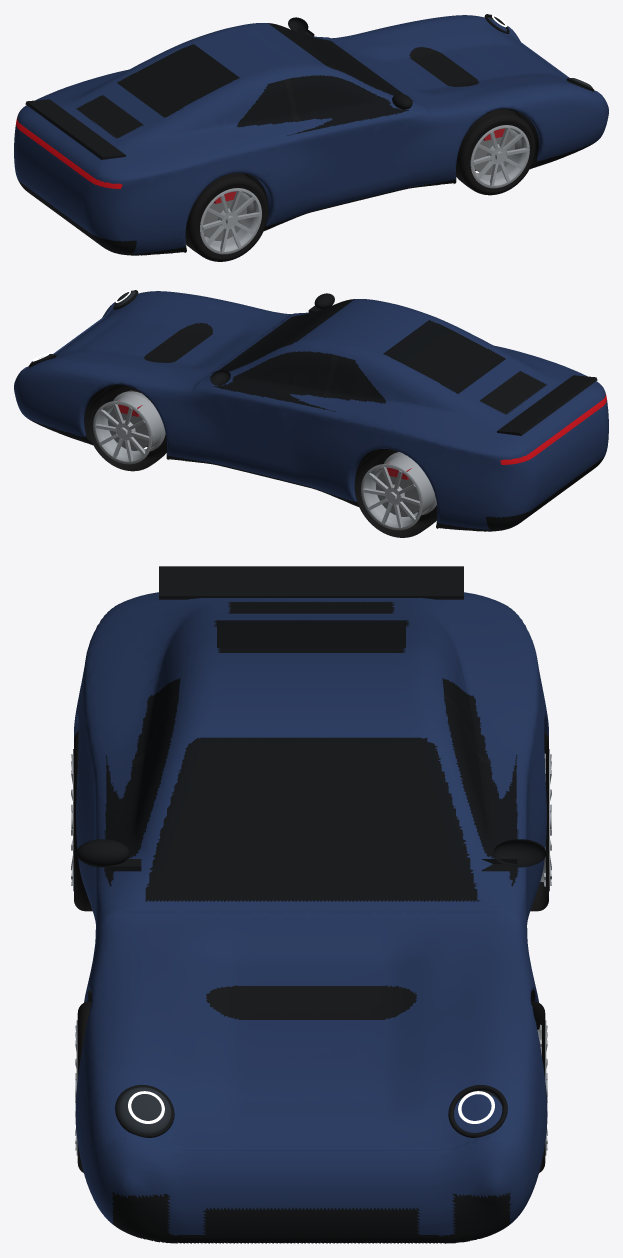
Rendered from carreras.glb.
3 views of the same model, one above another, from view 1: azimuth 30°, elevation 25°; view 2: azimuth 150°, elevation 25°; view 3: azimuth 270°, elevation 25° (orthographic). The views are drawn at different scales.
Visible parts, largest first — view 1: carroceria, piezas; view 2: carroceria, piezas; view 3: carroceria, piezas.
Part boxes in pixels (<box>): carroceria: <box>14,15,608,255</box>; piezas: <box>25,14,594,261</box>; carroceria: <box>14,291,608,531</box>; piezas: <box>28,290,597,537</box>; carroceria: <box>74,592,548,1243</box>; piezas: <box>71,566,551,1172</box>.
Size of the model in its own units: 4.64 by 1.3 by 1.89.
